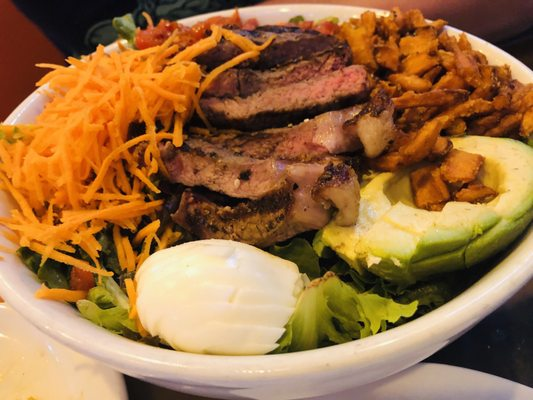sushi: (0, 8, 516, 398)
